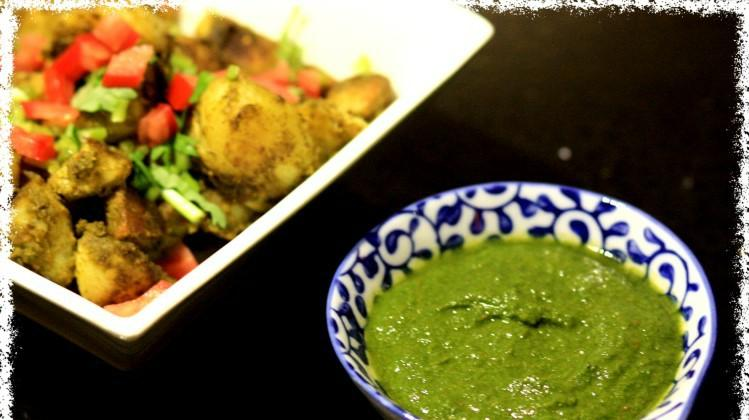GreenChutney: (370, 238, 680, 420)
